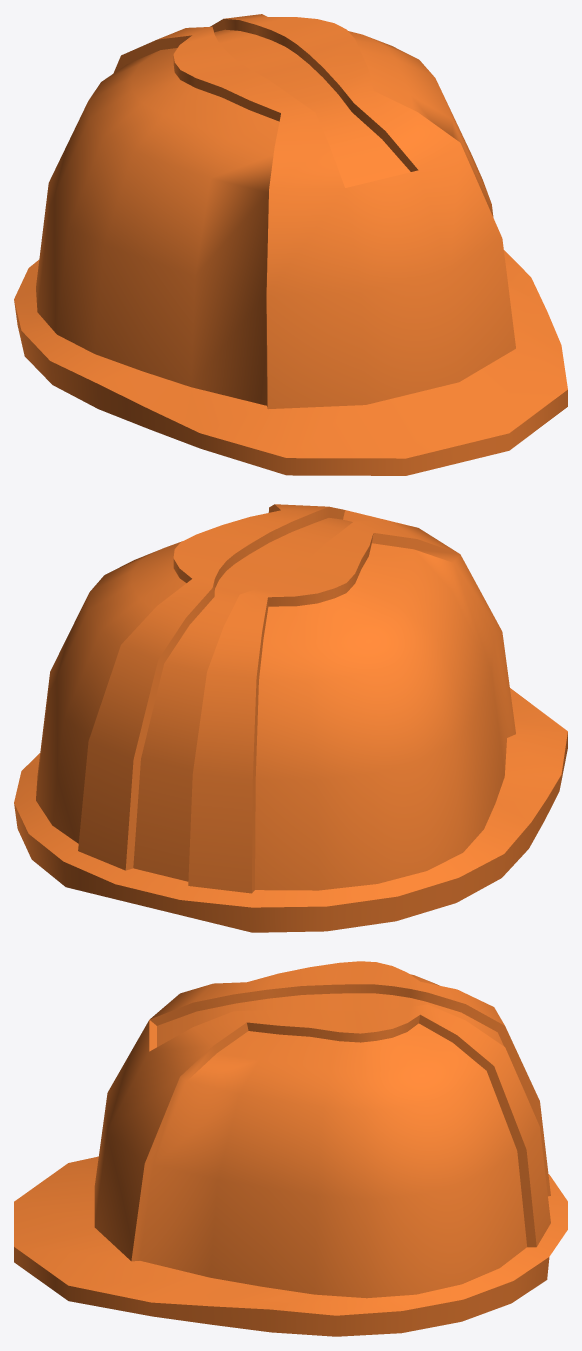
Rendered from capacete 2.fbx.
The picture shows the model from 3 angles, top to bottom: view 1: azimuth 30°, elevation 25°; view 2: azimuth 150°, elevation 25°; view 3: azimuth 270°, elevation 25°; orthographic projection. The views are drawn at different scales.
Parts seen in each view (by area): view 1: toupeiraMineradora_Mesh; view 2: toupeiraMineradora_Mesh; view 3: toupeiraMineradora_Mesh.
Boxes of the visible parts, x1=… form: toupeiraMineradora_Mesh: x1=14, y1=14, x2=567, y2=475; toupeiraMineradora_Mesh: x1=14, y1=504, x2=567, y2=932; toupeiraMineradora_Mesh: x1=14, y1=961, x2=567, y2=1336.
Size of the model in its own units: 107 by 61.24 by 127.
